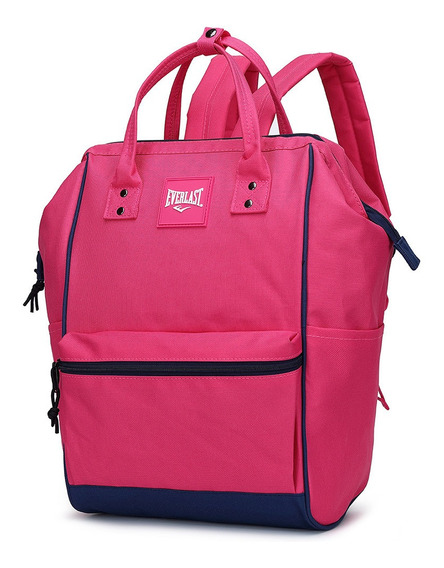cartera: (26, 23, 421, 534)
